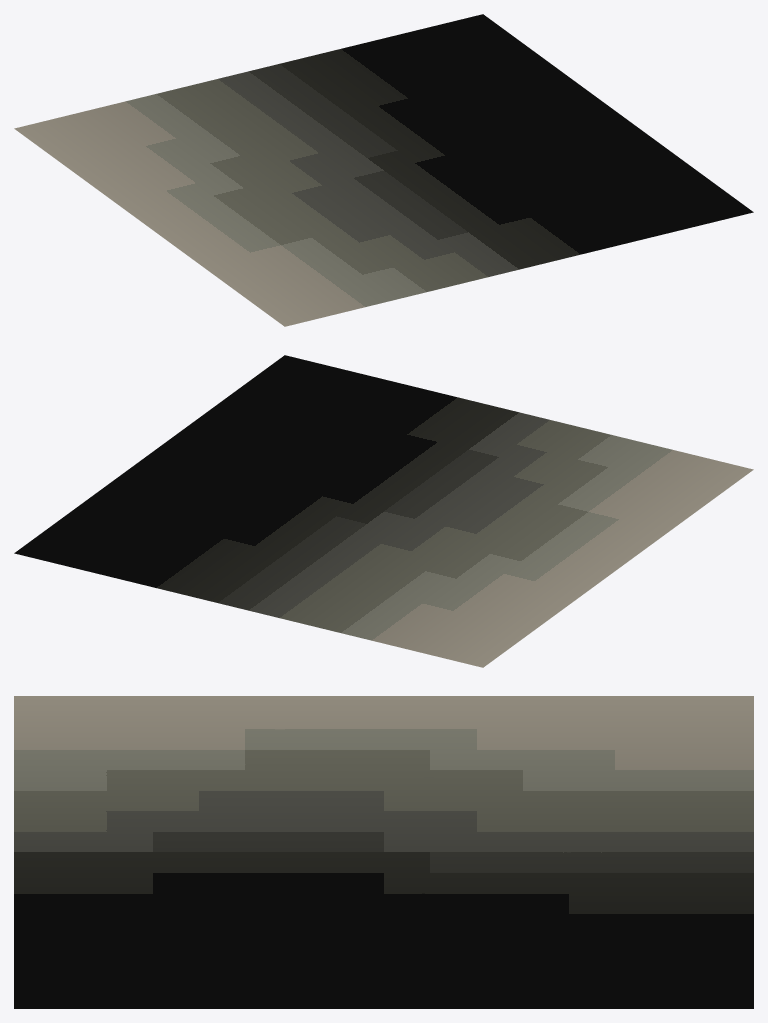
3 views of the same model, one above another, from view 1: azimuth 30°, elevation 25°; view 2: azimuth 150°, elevation 25°; view 3: azimuth 270°, elevation 25° (orthographic). The views are drawn at different scales.
Bounding box in the file's own units: 1 × 0 × 1.
Materials: 1 (1 with a texture image).
